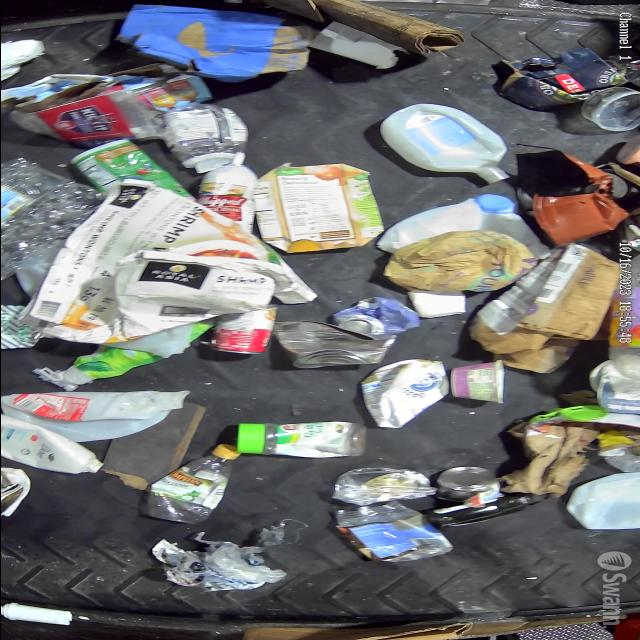can: (274, 319, 398, 371), (330, 296, 420, 337), (206, 304, 276, 354), (434, 467, 498, 503)
milk_jug: (381, 104, 508, 184), (0, 390, 190, 442), (374, 194, 536, 253), (359, 358, 448, 428), (565, 472, 640, 531)
non_white_jug: (253, 162, 383, 254)
plastic_bottle: (142, 442, 240, 524)
